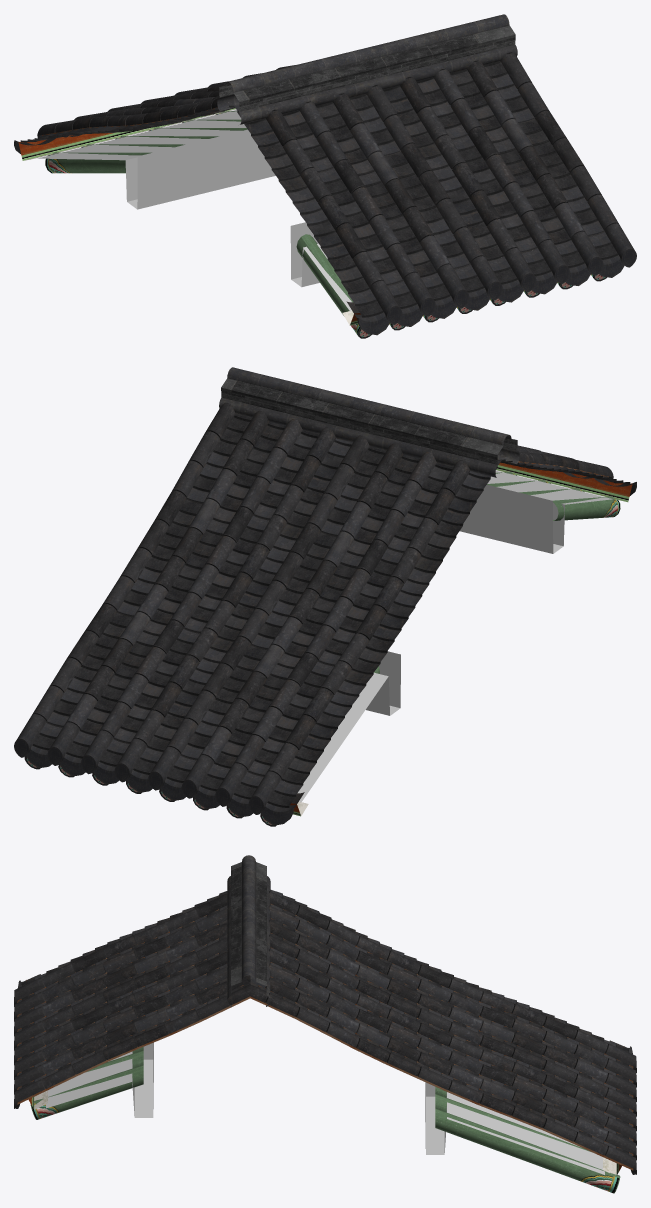
The model's file is SM_Giwa07A_a.fbx.
3 views of the same model, one above another, from view 1: azimuth 30°, elevation 25°; view 2: azimuth 150°, elevation 25°; view 3: azimuth 270°, elevation 25° (orthographic). The views are drawn at different scales.
Visible parts, largest first — view 1: SM_Giwa07A_a; view 2: SM_Giwa07A_a; view 3: SM_Giwa07A_a.
Part boxes in pixels (bbox=[...]): SM_Giwa07A_a: bbox=[14, 14, 636, 338]; SM_Giwa07A_a: bbox=[14, 367, 636, 826]; SM_Giwa07A_a: bbox=[14, 855, 636, 1193].
Bounding box in the file's own units: 254 × 555 × 218.
